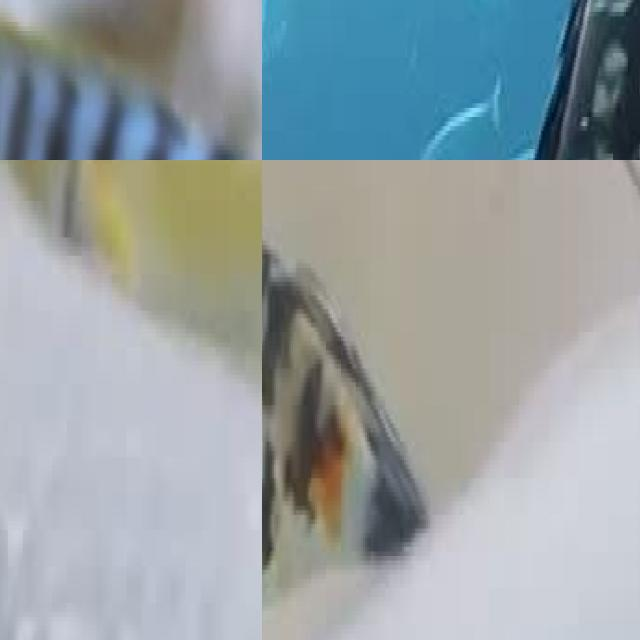fish: (359, 0, 640, 160), (0, 0, 262, 160)
